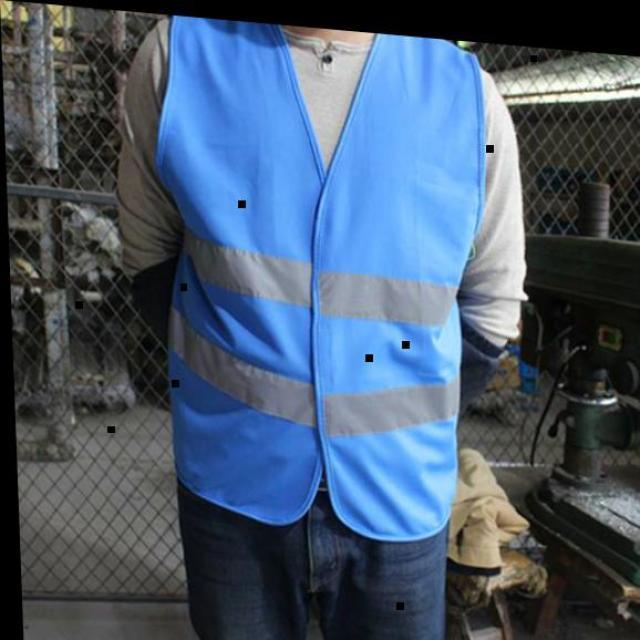safety_helmet: (134, 21, 511, 539)
